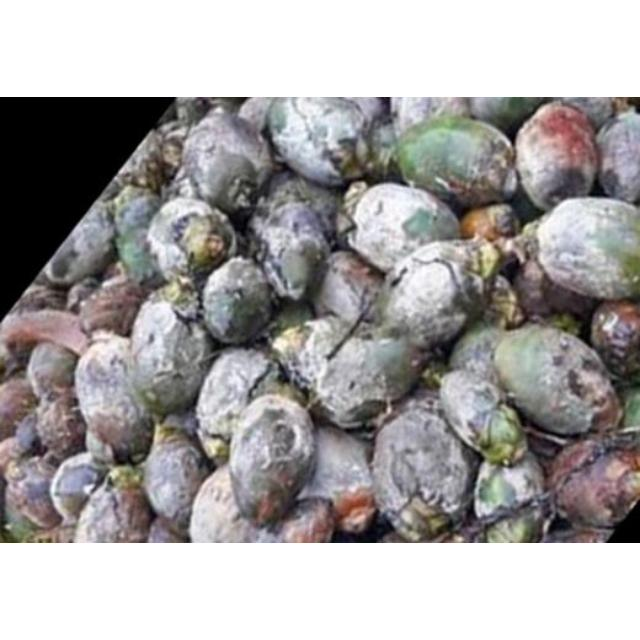damaged: (369, 398, 481, 540), (494, 324, 612, 434), (226, 392, 316, 526), (306, 327, 418, 428), (536, 196, 640, 302), (345, 183, 461, 275), (176, 109, 274, 217), (126, 300, 214, 418), (73, 335, 155, 459), (378, 254, 486, 348), (264, 98, 372, 186), (193, 348, 281, 448), (250, 201, 334, 305), (547, 436, 639, 530), (440, 369, 528, 466), (297, 426, 375, 534), (142, 196, 235, 286), (140, 420, 210, 530), (470, 454, 550, 542), (281, 312, 357, 396), (200, 258, 272, 344), (73, 471, 155, 541), (110, 190, 168, 288), (188, 465, 256, 543), (2, 453, 68, 533), (258, 172, 342, 234), (315, 252, 379, 324), (78, 274, 150, 338), (594, 108, 640, 204), (48, 450, 106, 526), (588, 299, 640, 375), (34, 391, 88, 464), (262, 300, 318, 370), (138, 276, 202, 330), (355, 276, 407, 340), (464, 98, 552, 134), (26, 340, 78, 400), (147, 120, 193, 182), (394, 98, 464, 134), (546, 98, 618, 132), (0, 380, 36, 444), (14, 280, 66, 316), (110, 183, 154, 224), (0, 324, 30, 382), (525, 202, 565, 244), (265, 97, 303, 141), (507, 182, 545, 224), (339, 97, 388, 129), (491, 232, 529, 272), (235, 98, 278, 132), (65, 276, 103, 314), (171, 98, 221, 126), (94, 170, 130, 208), (1, 436, 30, 482), (538, 309, 582, 336), (518, 215, 546, 255), (200, 97, 250, 117), (156, 104, 184, 130), (502, 167, 520, 201), (100, 260, 126, 282)
